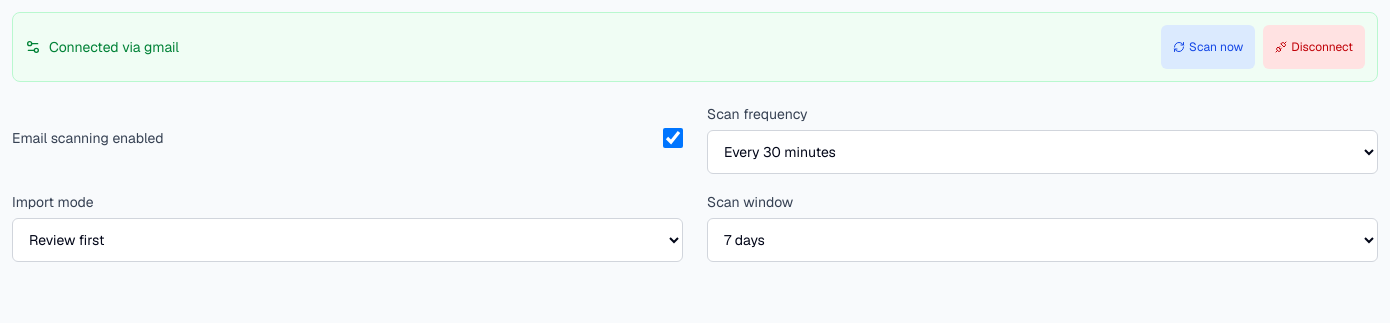
Test: flat settings surfaces › reports a failed email scan
What coordinates should you click on to do the following:
click the button "Scan now"
I would click on:
 (1208, 47)
Its box is [1161,25,1255,69].
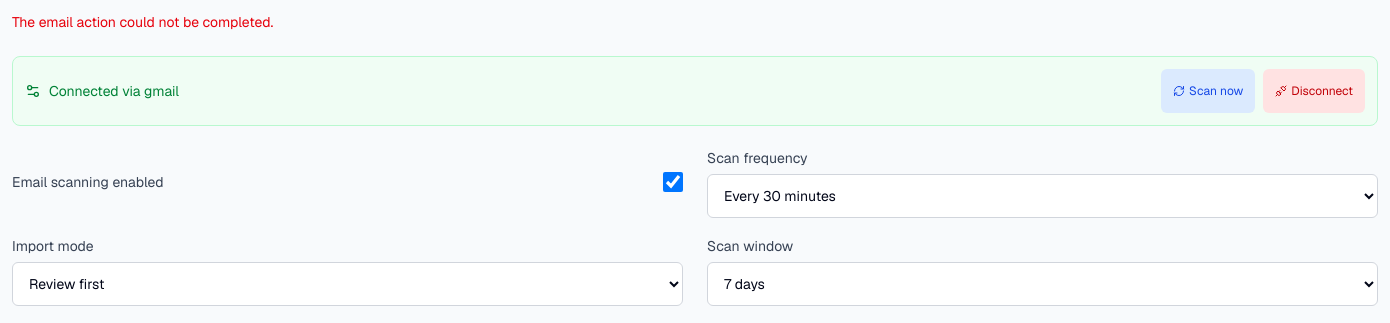
expect the message reads "The email action could not be completed.": met, box [12,13,273,31]
